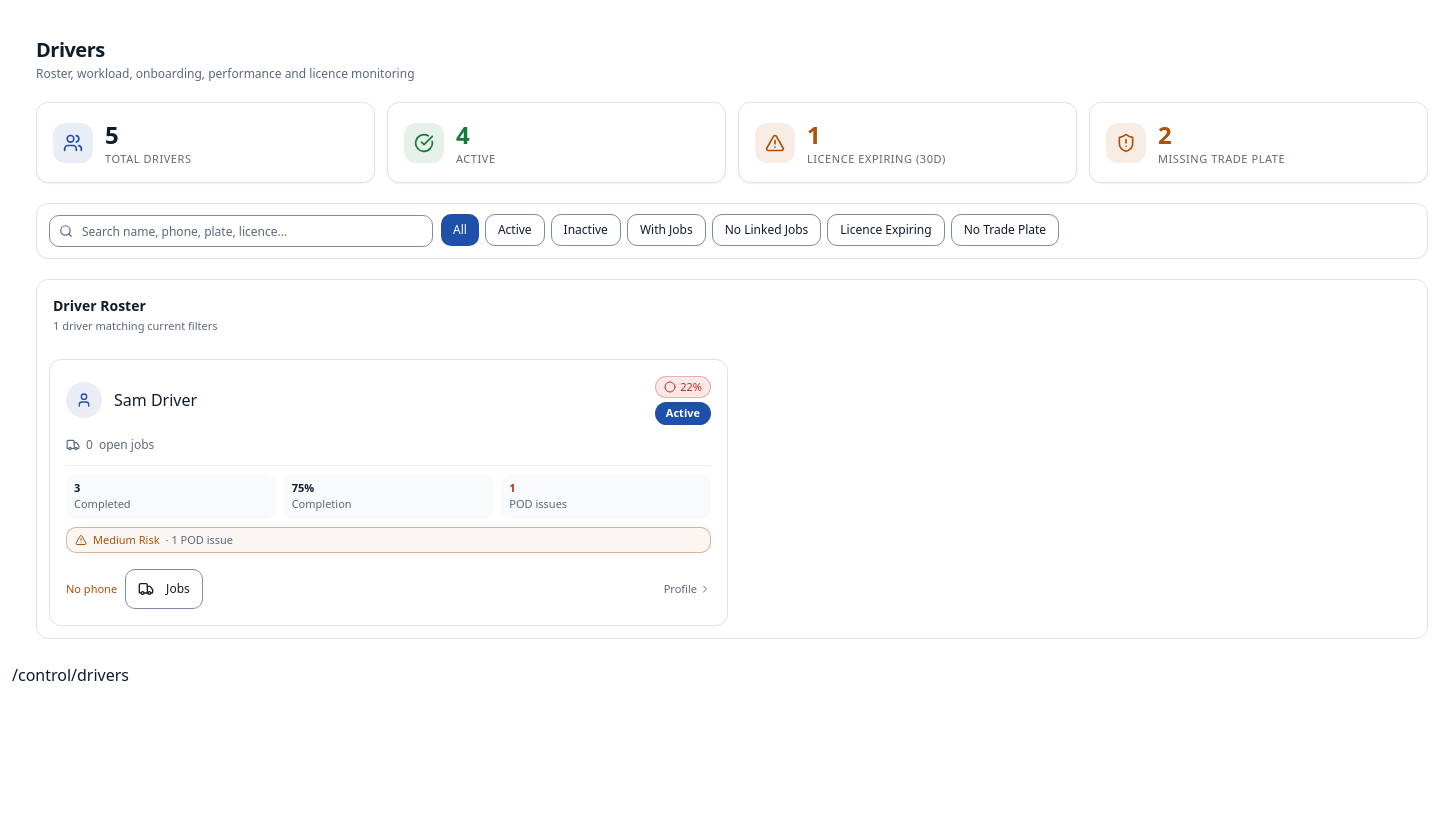
Test: ControlDrivers linking › roster cards open the driver profile, with a way back
Click the text "Sam Driver" at (156, 400), box [114,388,197,412]
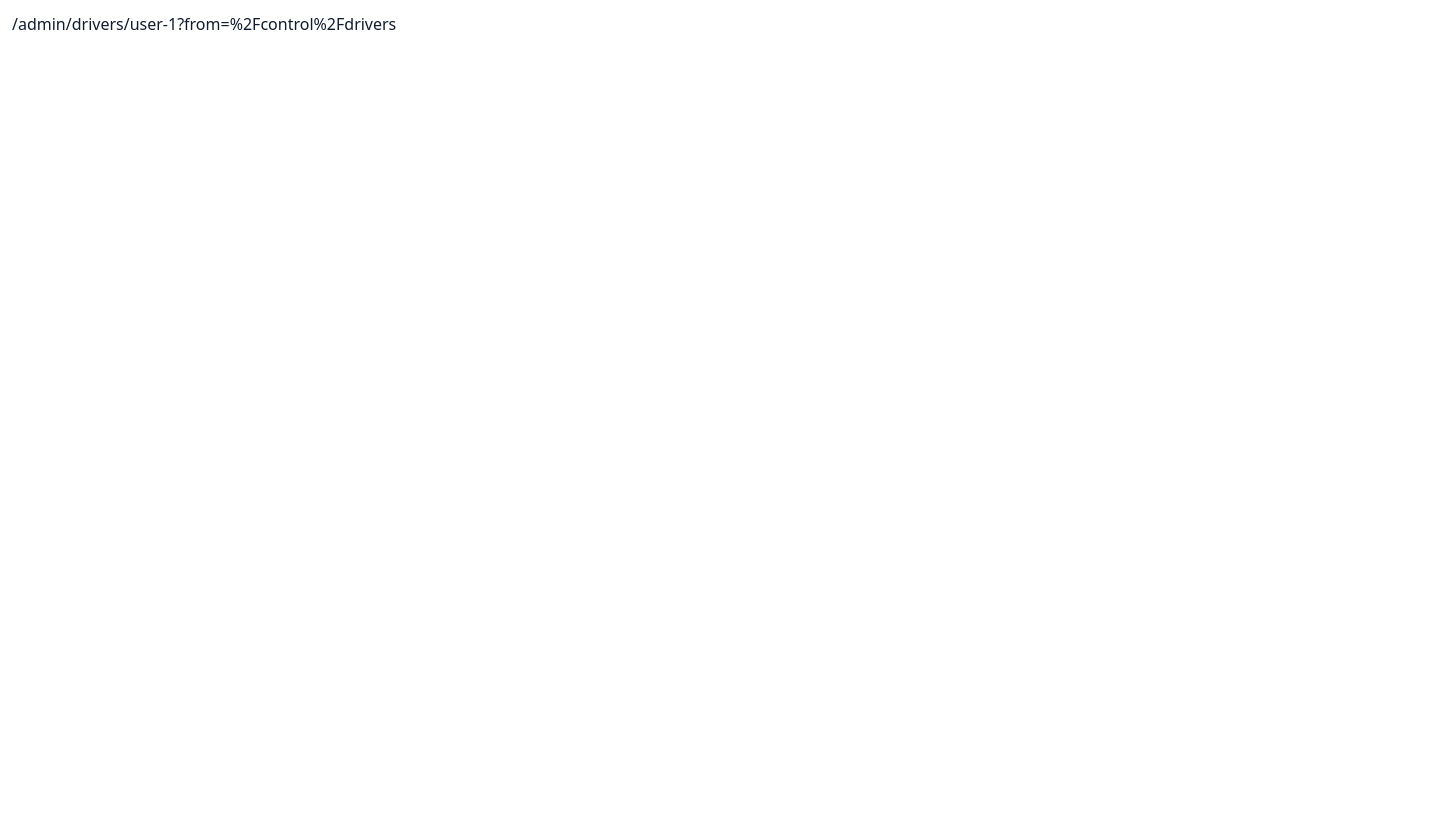
Now the text with test id "location" reads "/admin/drivers/user-1?from=%2Fcontrol%2Fdrivers", box [12,13,396,35]
